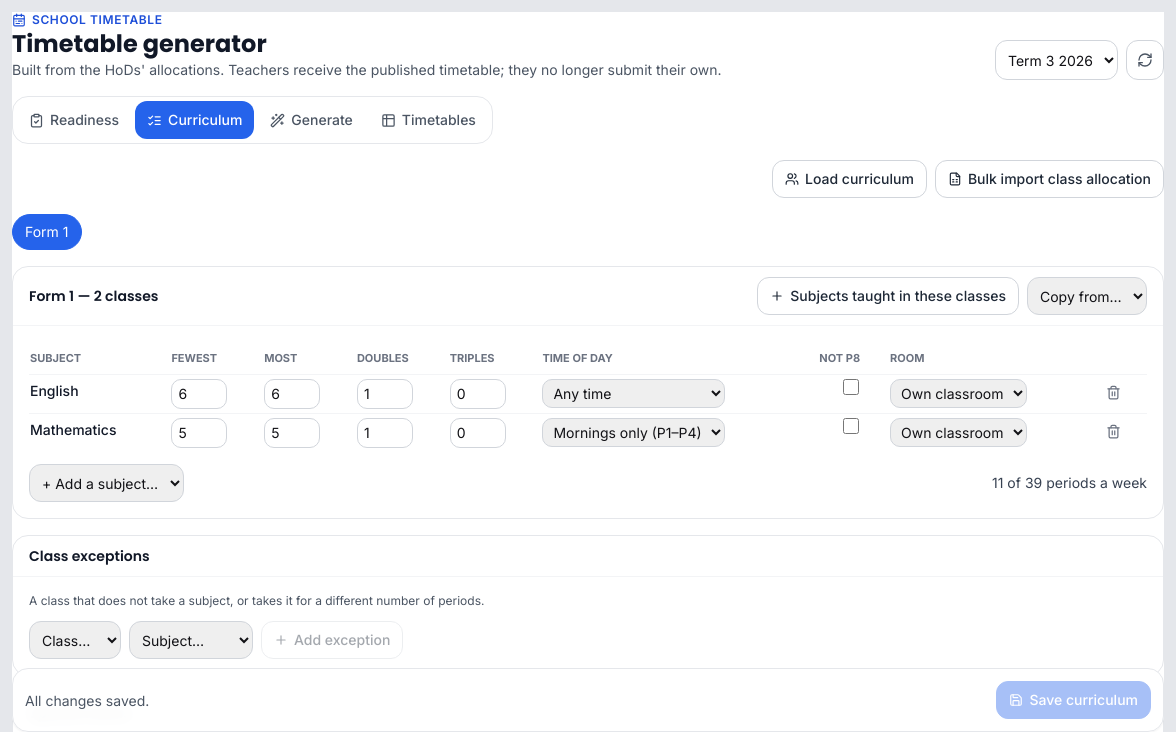
Test case: Timetable generator (admin) › curriculum: Load curriculum takes the subjects each class has a teacher for this term
Check: the tab "Form 1" is shown, box top-left (12, 214), bottom-right (82, 250)
Click the button "Load curriculum". click: [849, 179]
box: top-left (772, 160), bottom-right (927, 198)
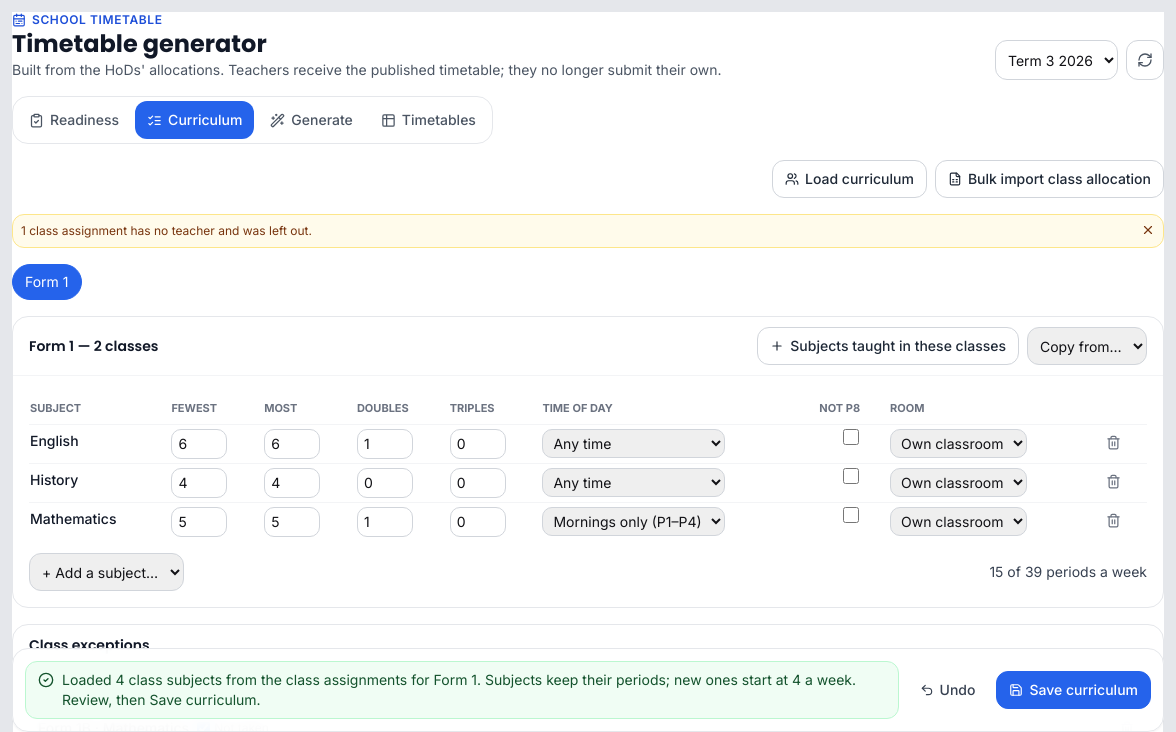
Check: the text "Loaded 4 class subjects from the class assignments for Form 1." is shown, box top-left (62, 671), bottom-right (856, 708)
Check: the list item "1 class assignment has no teacher and was left out." is shown, box top-left (21, 223), bottom-right (312, 238)
Check: the number field named "History min" holds "4", box top-left (171, 468), bottom-right (227, 498)
Click the button "Save curriculum". click: [1074, 690]
box: top-left (996, 671), bottom-right (1151, 709)
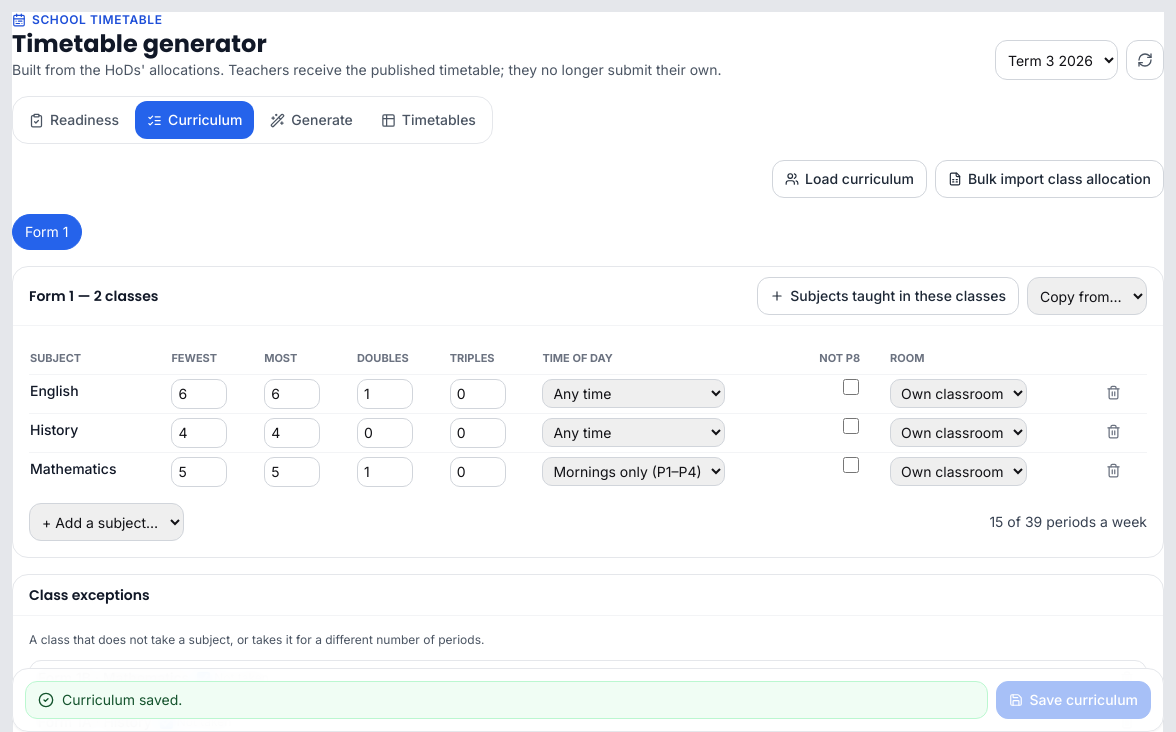
Check: the text "Curriculum saved." is shown, box top-left (62, 691), bottom-right (182, 708)
